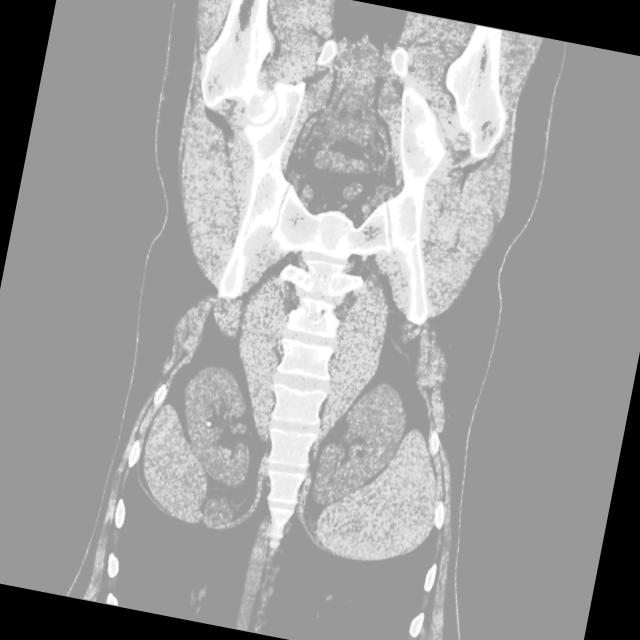STONE: (149, 335, 465, 512)
